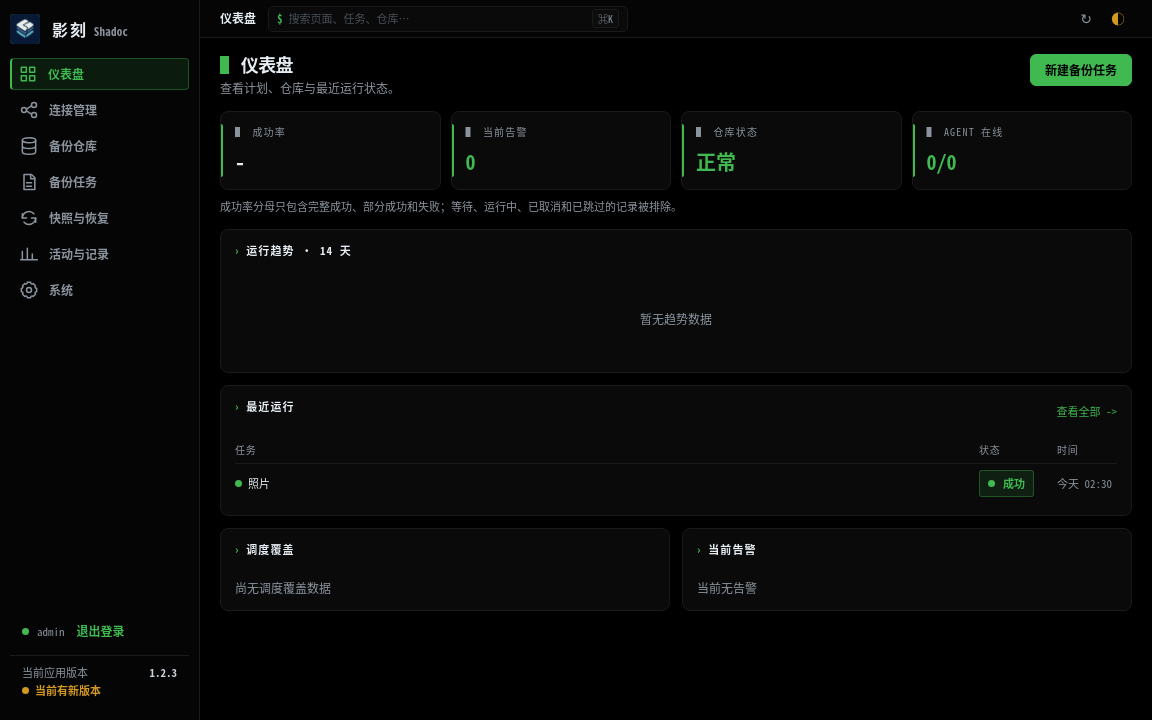
Test case: restic-control administration › groups hosts, Agents, and databases under one connection entry
The width and height of the screenshot is (1152, 720).
Expected: the heading "仪表盘" is shown, [241,51,293,77]
Expected: the button "远程主机" is not shown
Click the button "连接管理" at (100, 110), box [10,94,189,126]
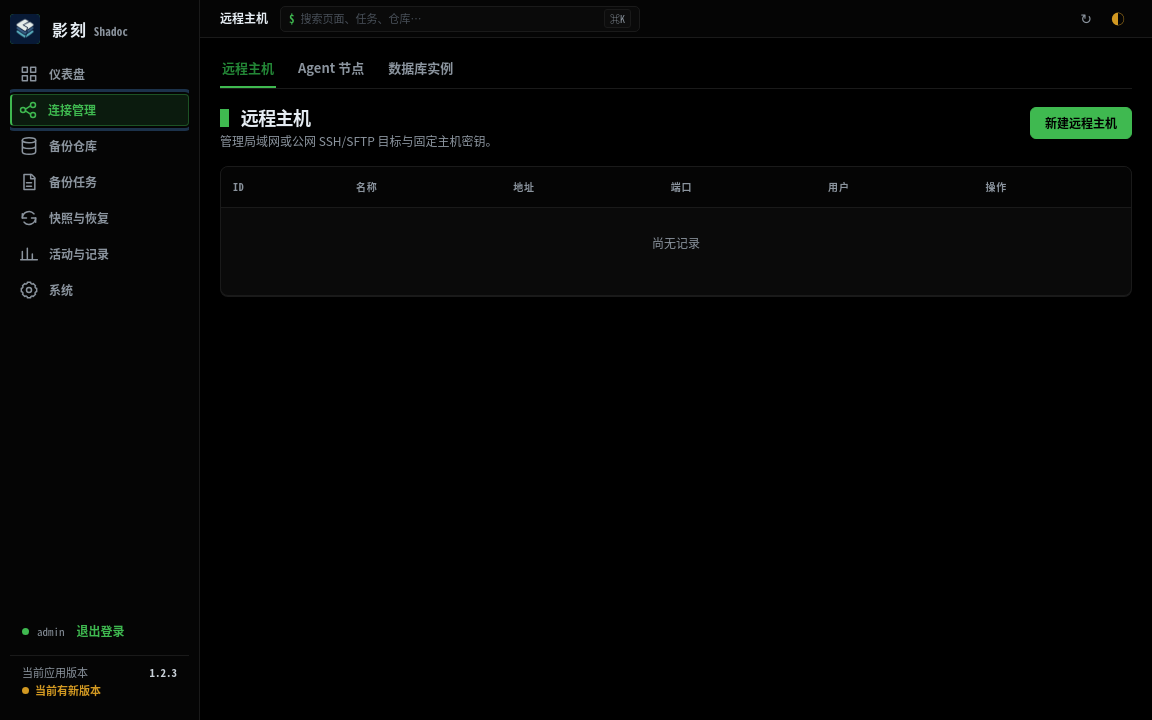
Result: the tab "Agent 节点" is shown at [296,50,366,88]
Result: the tab "数据库实例" is shown at [386,50,455,88]
